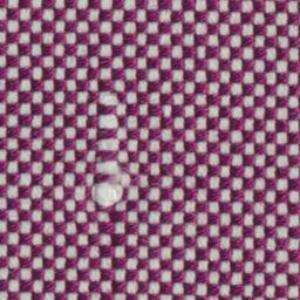defect: (84, 66, 127, 206)
